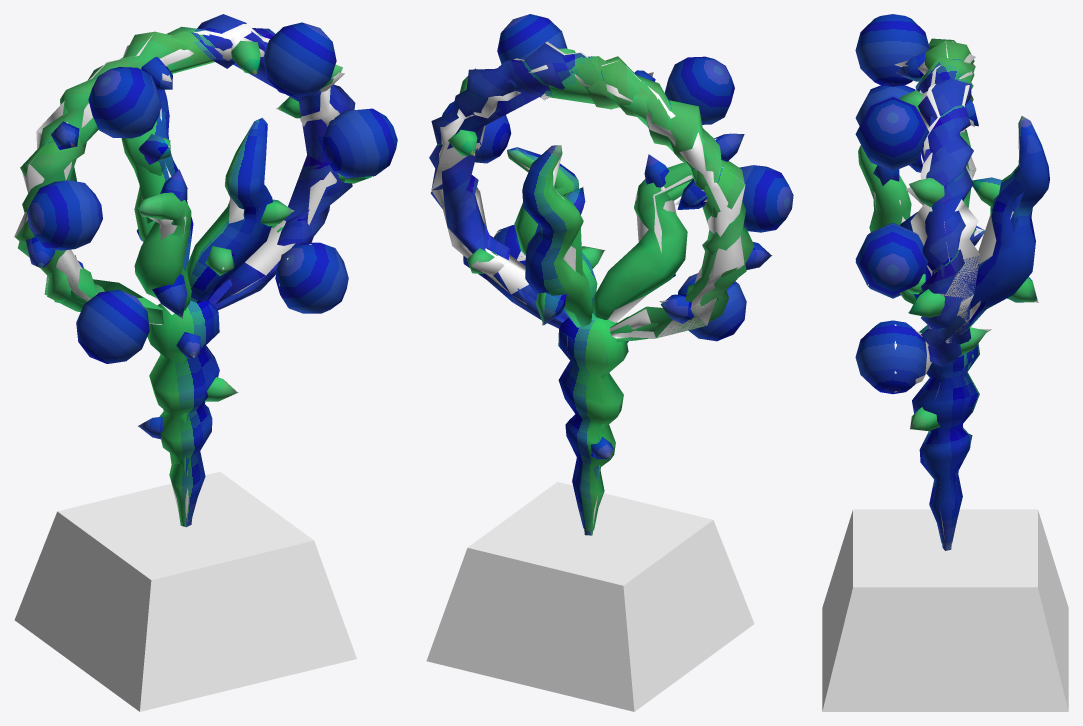
File: objects_un_t04artobj01_green.gltf
3 renders of one model, left to right at view 1: azimuth 30°, elevation 25°; view 2: azimuth 150°, elevation 25°; view 3: azimuth 270°, elevation 25°, orthographic. The views are drawn at different scales.
Visible parts, largest first — view 1: um_objects_un_t04artobj01_green_model_lod0Shape:objects_un_t (×3), um_objects_un_t04artobj01_green_model_lod2Shape:objects_un_t; view 2: um_objects_un_t04artobj01_green_model_lod0Shape:objects_un_t (×3), um_objects_un_t04artobj01_green_model_lod2Shape:objects_un_t; view 3: um_objects_un_t04artobj01_green_model_lod0Shape:objects_un_t (×3), um_objects_un_t04artobj01_green_model_lod2Shape:objects_un_t, um_objects_un_t04artobj01_green_model_lod1Shape:objects_un_t.
Part boxes in pixels (<box>): um_objects_un_t04artobj01_green_model_lod0Shape:objects_un_t (×3): <box>14,14,397,711</box>; um_objects_un_t04artobj01_green_model_lod2Shape:objects_un_t: <box>18,31,327,527</box>; um_objects_un_t04artobj01_green_model_lod0Shape:objects_un_t (×3): <box>426,14,793,711</box>; um_objects_un_t04artobj01_green_model_lod2Shape:objects_un_t: <box>442,56,746,535</box>; um_objects_un_t04artobj01_green_model_lod0Shape:objects_un_t (×3): <box>822,14,1068,711</box>; um_objects_un_t04artobj01_green_model_lod2Shape:objects_un_t: <box>915,55,1023,550</box>; um_objects_un_t04artobj01_green_model_lod1Shape:objects_un_t: <box>895,168,989,344</box>.
Size of the model in its own units: 1.11 by 1.81 by 0.6667.
3 materials, 1 textured.
